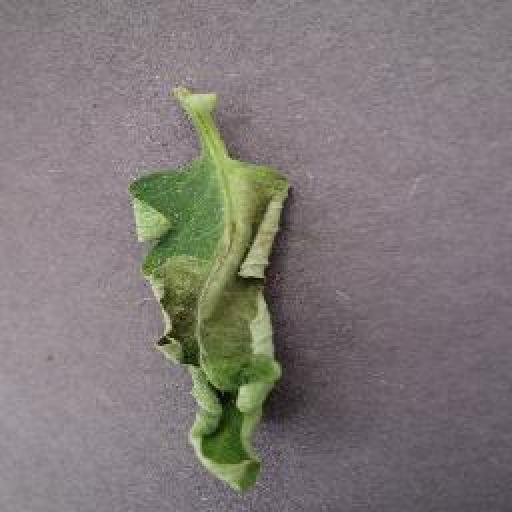Late Blight: (128, 161, 295, 499)
